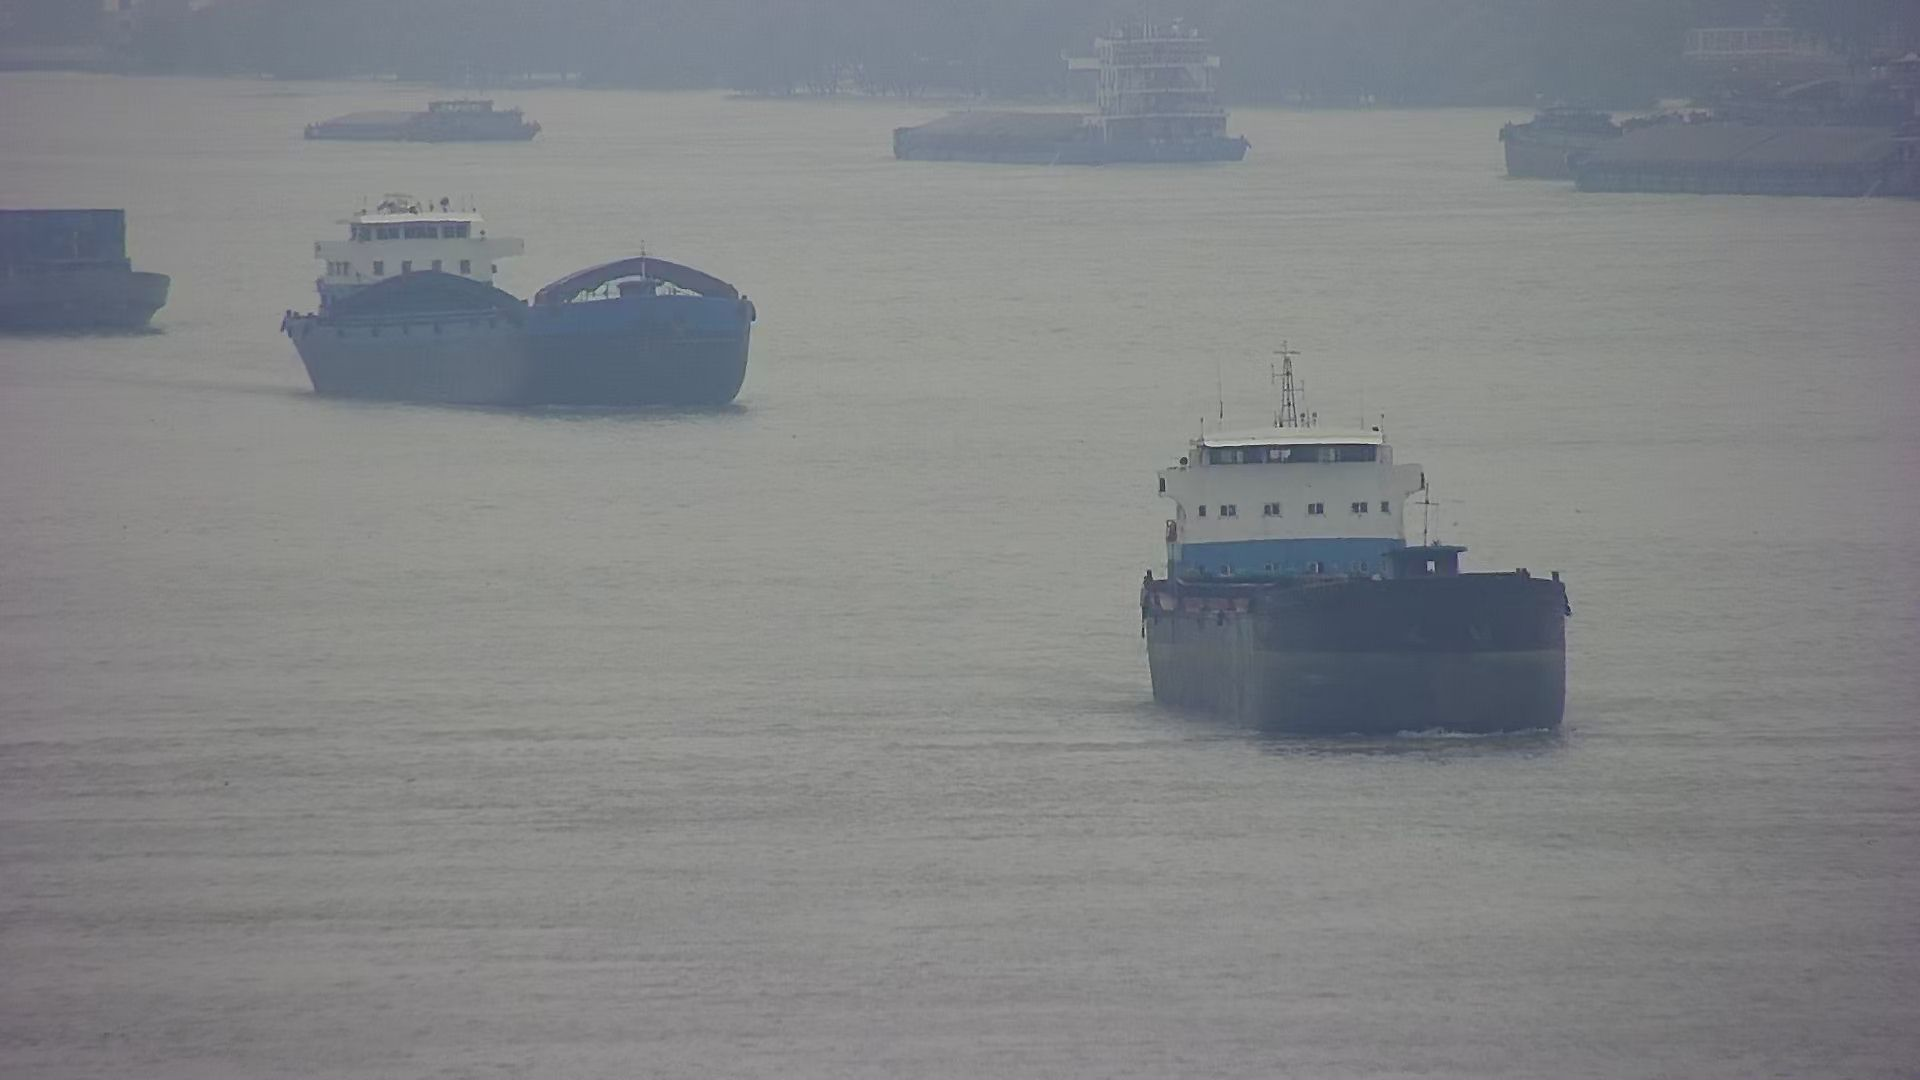ship: (1139, 429, 1569, 731), (280, 196, 760, 406), (1501, 24, 1920, 179), (1577, 29, 1920, 193), (891, 40, 1250, 167), (1, 204, 167, 335), (305, 99, 541, 140)
